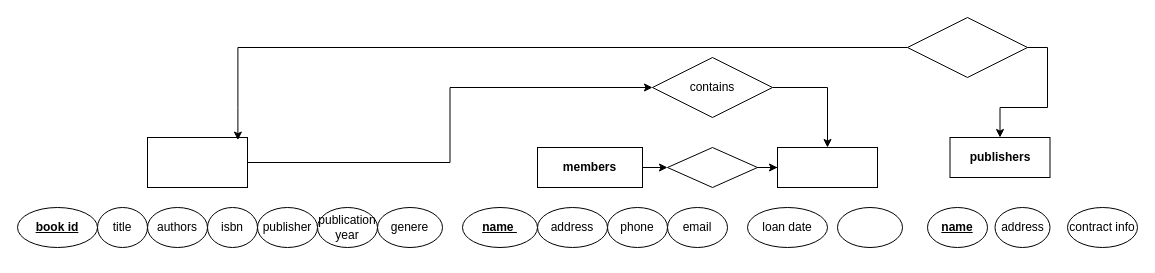
Some shapes in this 1155 by 273 pixel diagram are drawn without their labels. The centre of each missing label's shape, as x and y in pixels:
books: (x=197, y=162)
borrow: (x=712, y=167)
due date: (x=869, y=227)
loans: (x=827, y=167)
published by: (x=967, y=47)
